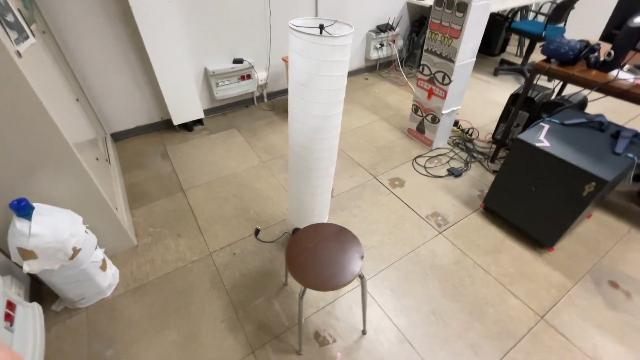Lamp: (282, 12, 356, 236)
Stool: (280, 217, 370, 360)
